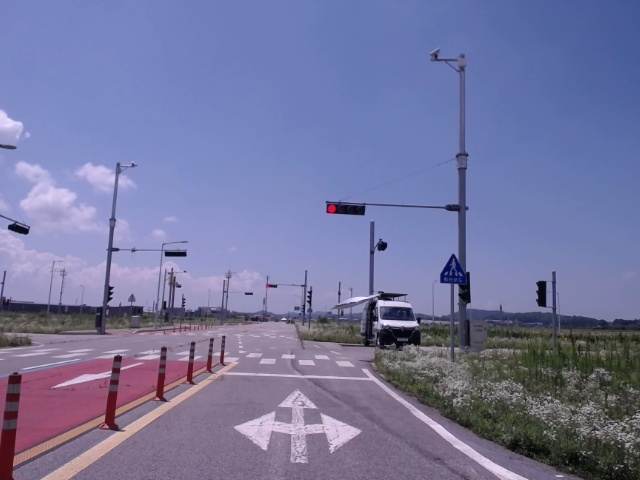red_4: (327, 204, 365, 215)
